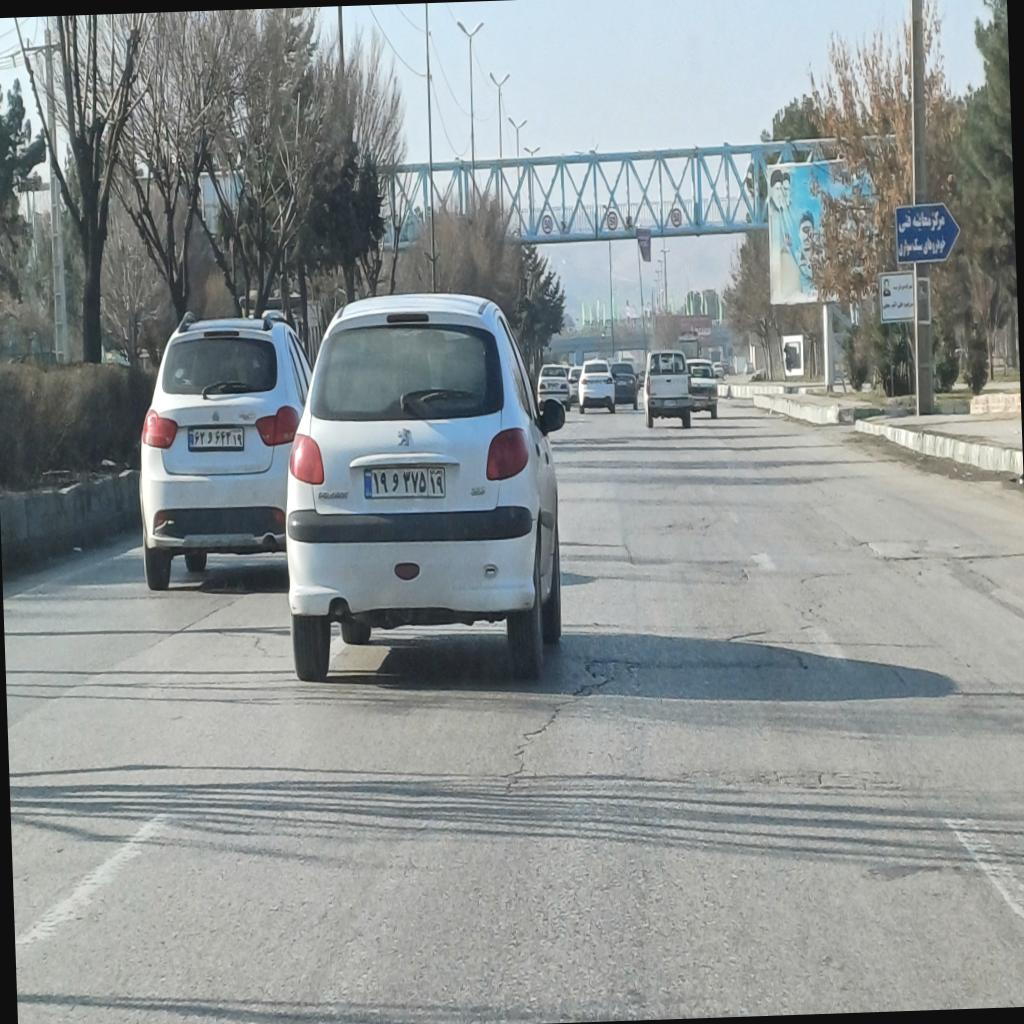Plates: (364, 464, 446, 501), (187, 424, 244, 452)
